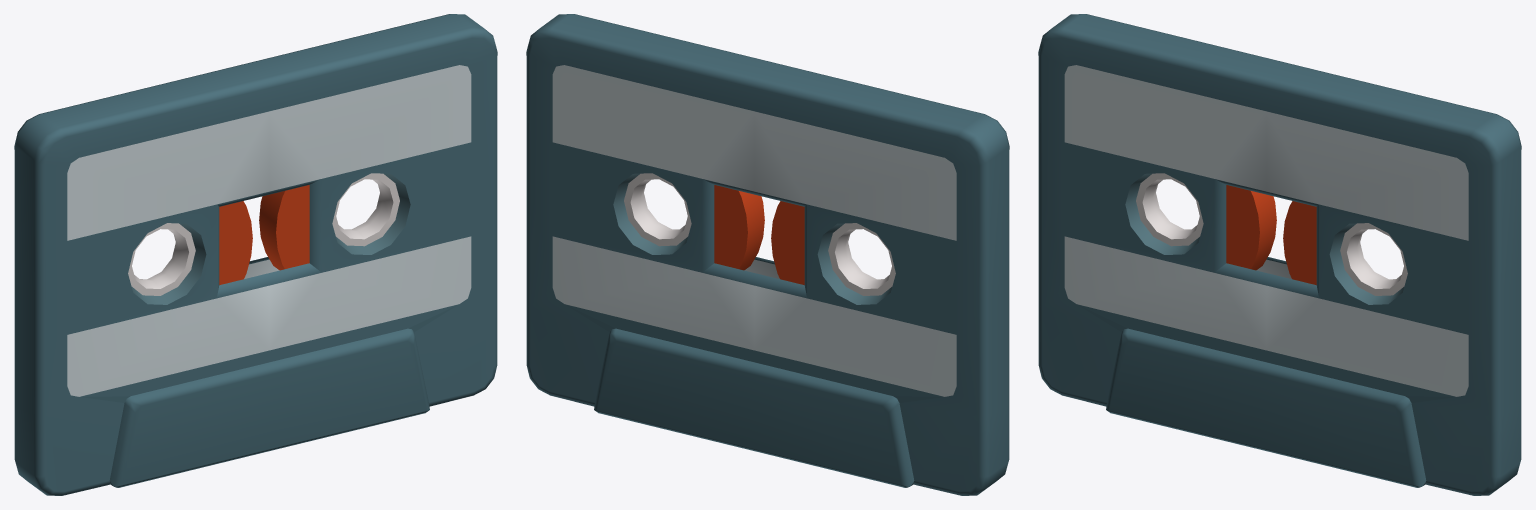
Rendered from Audio_004.fbx.
The picture shows the model from 3 angles, left to right: view 1: azimuth 30°, elevation 25°; view 2: azimuth 150°, elevation 25°; view 3: azimuth 330°, elevation 25°; orthographic projection.
Parts seen in each view (by area): view 1: Audio_004; view 2: Audio_004; view 3: Audio_004.
Boxes of the visible parts, x1,y1,x2,y2 form: Audio_004: [14, 14, 497, 495]; Audio_004: [526, 14, 1009, 495]; Audio_004: [1038, 14, 1521, 495].
Bounding box in the file's own units: 10 × 1.39 × 7.6.
